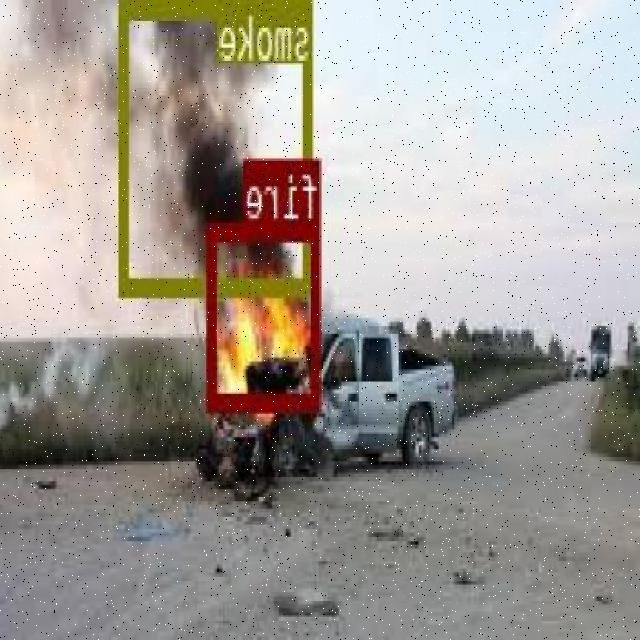smoke: (122, 0, 315, 291)
